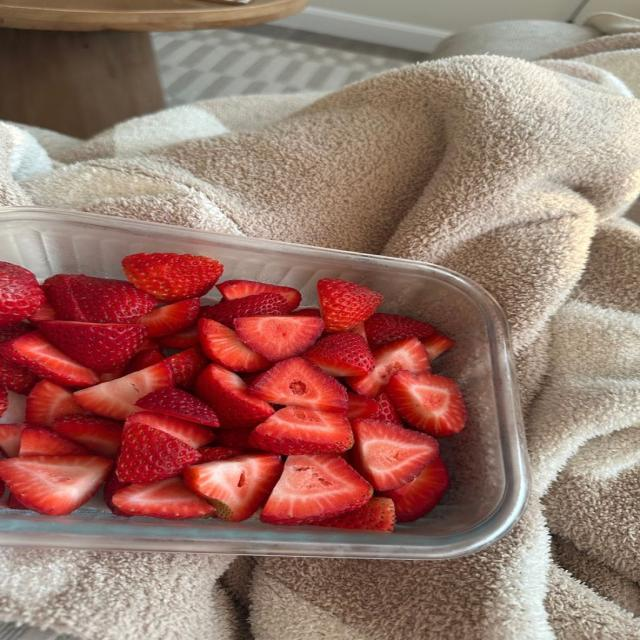strawberry sliced: (260, 454, 372, 525), (183, 453, 283, 521), (0, 456, 113, 515), (353, 420, 439, 491), (74, 362, 173, 419), (39, 320, 146, 372), (0, 332, 99, 387), (43, 275, 157, 322), (387, 371, 466, 437), (249, 358, 347, 411), (346, 338, 430, 397), (116, 423, 200, 482), (122, 253, 223, 302), (249, 407, 353, 454), (196, 365, 273, 428), (384, 457, 449, 522), (111, 478, 213, 519), (234, 315, 324, 361), (198, 318, 271, 372), (318, 279, 383, 332), (136, 388, 219, 427), (126, 412, 213, 448), (200, 293, 288, 328), (304, 333, 375, 376), (52, 416, 122, 458), (0, 262, 45, 326), (25, 381, 87, 426), (316, 497, 395, 531), (216, 280, 301, 311), (365, 313, 436, 348), (138, 298, 199, 337), (42, 275, 86, 321), (19, 427, 87, 456), (165, 347, 209, 389), (0, 358, 38, 394), (103, 472, 131, 517), (123, 349, 165, 375), (158, 324, 199, 350), (371, 394, 402, 426), (422, 333, 454, 361), (0, 424, 27, 457), (347, 392, 378, 419), (0, 391, 26, 422), (199, 447, 248, 463), (28, 300, 55, 328), (216, 429, 253, 449), (0, 323, 33, 342), (347, 323, 367, 343), (7, 493, 29, 510), (138, 336, 161, 351), (99, 369, 125, 382), (239, 372, 260, 385), (291, 308, 321, 317), (0, 387, 8, 416)
